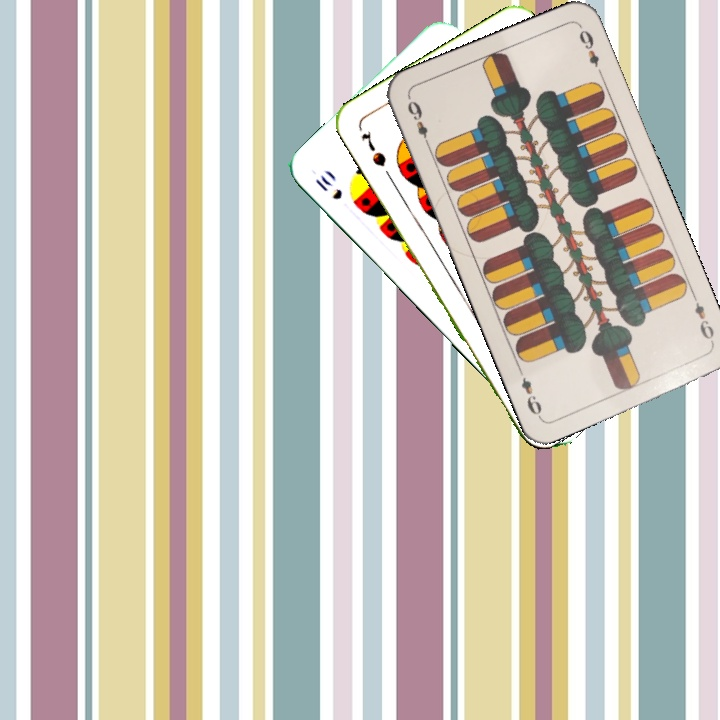E9: (688, 291, 717, 348), (403, 96, 433, 151)
S10: (310, 171, 345, 203)
S7: (357, 126, 389, 170)
